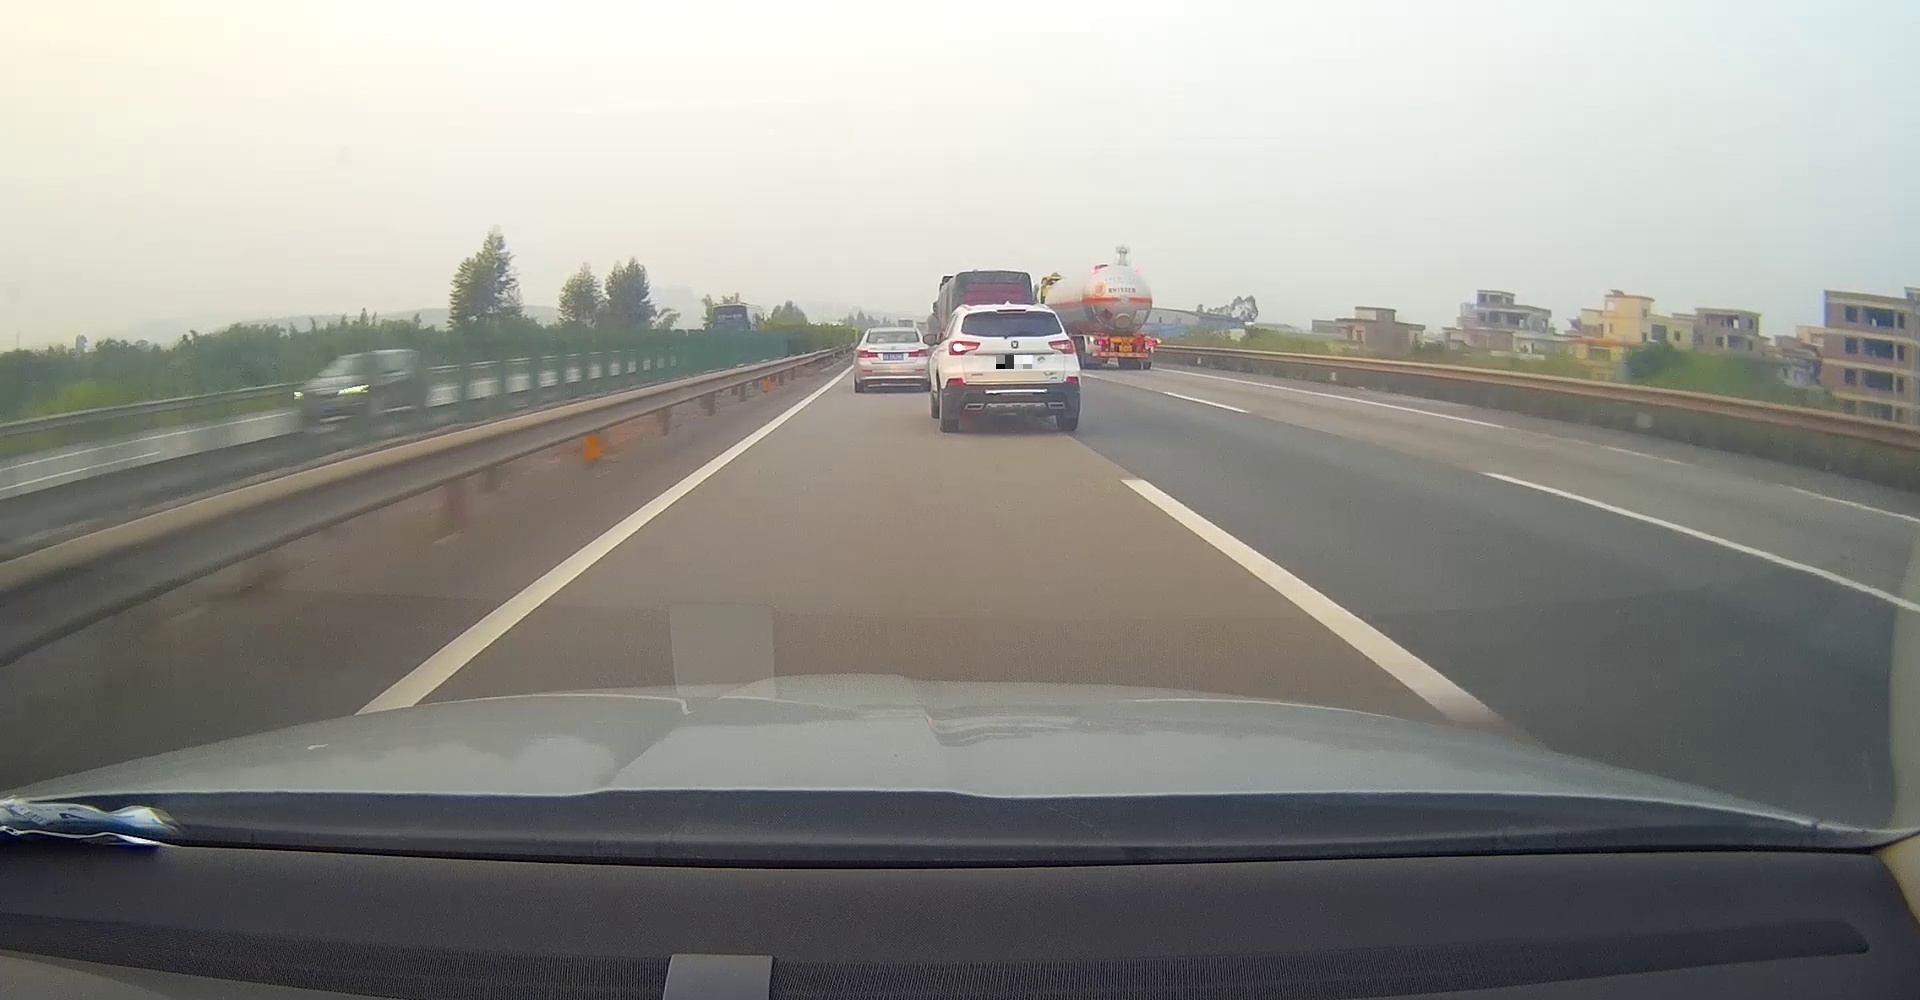L_light: (949, 340, 982, 357), (857, 350, 877, 358), (1093, 339, 1106, 346)
R_light: (1048, 339, 1076, 354), (907, 348, 928, 357), (1145, 340, 1156, 345)
T_light: (996, 308, 1026, 313), (888, 331, 899, 334), (1121, 336, 1130, 339)
day-left: (943, 305, 1079, 431), (855, 327, 930, 391)
day-no: (1083, 332, 1157, 371)
plate_1: (996, 355, 1032, 369)
